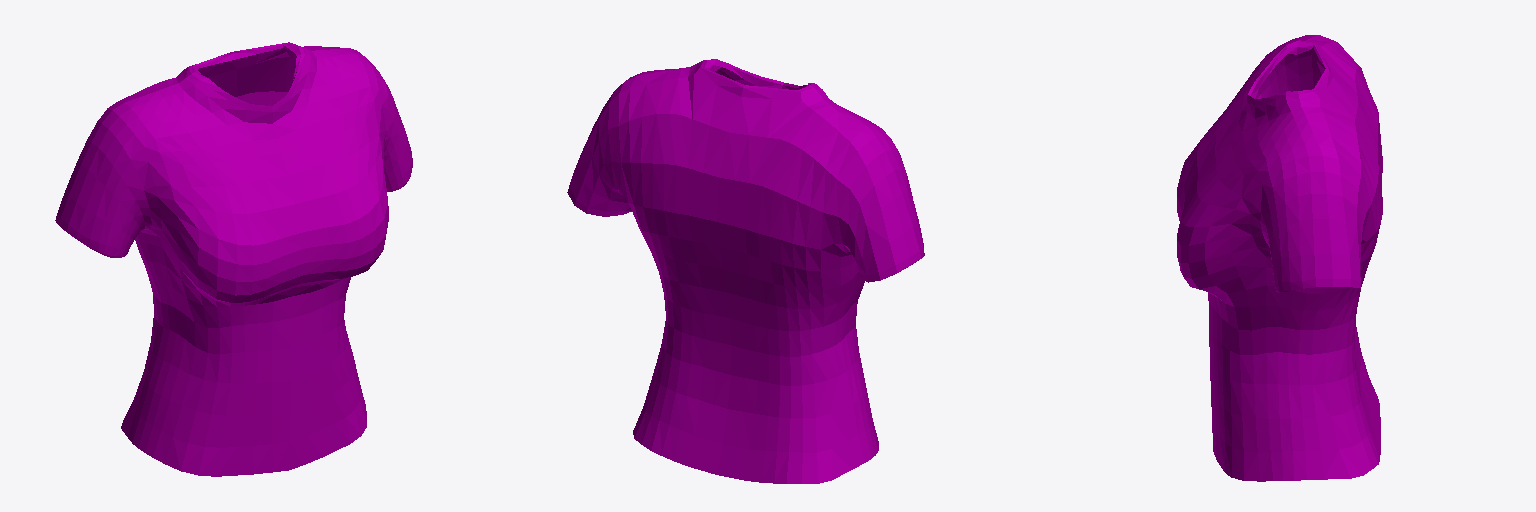
Rendered from pink-shirt.obj.
3 views of the same model, side by side, from view 1: azimuth 30°, elevation 25°; view 2: azimuth 150°, elevation 25°; view 3: azimuth 270°, elevation 25° (orthographic).
Bounding box in the file's own units: 19.95 × 21.14 × 10.39.